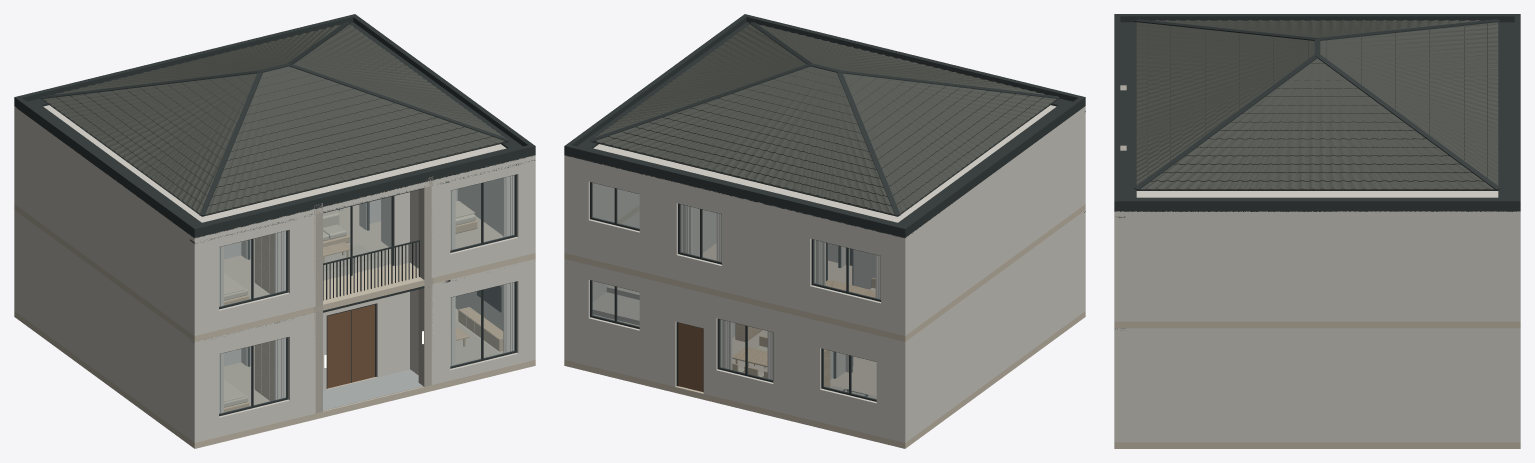
File: house-option1-tiled.glb
The picture shows the model from 3 angles, left to right: view 1: azimuth 30°, elevation 25°; view 2: azimuth 150°, elevation 25°; view 3: azimuth 270°, elevation 25°; orthographic projection. The views are drawn at different scales.
Visible parts, largest first — view 1: roof/mesh10/ceramic tile surface 1, floor1/0006/left exterior, floor2/0072/left exterior, roof/mesh11/ceramic tile surface 2, floor2/0001/upper slab west, roof/mesh12/ceramic tile surface 3, roof/0673/closed upper ceiling slab, floor1/0000/ground floor allowance, floor1/0060/W02 glass, roof/mesh9/ceramic tile surface 0, roof/0675/inset eave fascia, floor2/0128/D06 glass (+44 smaller); view 2: roof/mesh9/ceramic tile surface 0, floor1/0006/left exterior, floor2/0072/left exterior, roof/mesh11/ceramic tile surface 2, floor2/0077/rear exterior, roof/mesh12/ceramic tile surface 3, roof/0673/closed upper ceiling slab, floor1/0000/ground floor allowance, floor1/0011/rear exterior, roof/mesh10/ceramic tile surface 1, roof/0674/inset eave fascia, floor1/0016/rear exterior (+44 smaller); view 3: floor1/0007/right exterior, floor2/0073/right exterior, roof/mesh12/ceramic tile surface 3, roof/mesh9/ceramic tile surface 0, roof/mesh10/ceramic tile surface 1, roof/0677/inset eave fascia, roof/0673/closed upper ceiling slab, roof/mesh11/ceramic tile surface 2, roof/0678/perimeter gutter graphic allowance, roof/0679/perimeter gutter graphic allowance, floor1/0000/ground floor allowance, roof/0676/inset eave fascia (+10 smaller).
Part boxes in pixels (box(x1,y1,x2,y2)): roof/mesh10/ceramic tile surface 1: box(205, 66, 506, 215); floor1/0006/left exterior: box(14, 210, 201, 442); floor2/0072/left exterior: box(14, 112, 201, 335); roof/mesh11/ceramic tile surface 2: box(41, 73, 256, 213); floor2/0001/upper slab west: box(14, 204, 424, 341); roof/mesh12/ceramic tile surface 3: box(293, 22, 504, 137); roof/0673/closed upper ceiling slab: box(14, 105, 535, 243); floor1/0000/ground floor allowance: box(14, 308, 535, 448); floor1/0060/W02 glass: box(450, 282, 514, 366); roof/mesh9/ceramic tile surface 0: box(50, 24, 342, 95); roof/0675/inset eave fascia: box(192, 144, 535, 238); floor2/0128/D06 glass: box(323, 196, 391, 280); roof/mesh9/ceramic tile surface 0: box(593, 66, 894, 215); floor1/0006/left exterior: box(898, 210, 1085, 442); floor2/0072/left exterior: box(898, 112, 1085, 335); roof/mesh11/ceramic tile surface 2: box(843, 73, 1058, 213); floor2/0077/rear exterior: box(722, 199, 811, 312); roof/mesh12/ceramic tile surface 3: box(595, 22, 806, 137); roof/0673/closed upper ceiling slab: box(564, 105, 1085, 243); floor1/0000/ground floor allowance: box(564, 311, 1085, 448); floor1/0011/rear exterior: box(773, 310, 821, 421); roof/mesh10/ceramic tile surface 1: box(757, 24, 1049, 95); roof/0674/inset eave fascia: box(564, 144, 907, 238); floor1/0016/rear exterior: box(639, 277, 676, 386); floor1/0007/right exterior: box(1114, 328, 1520, 442); floor2/0073/right exterior: box(1114, 218, 1520, 321); roof/mesh12/ceramic tile surface 3: box(1140, 58, 1494, 189); roof/mesh9/ceramic tile surface 0: box(1320, 20, 1498, 185); roof/mesh10/ceramic tile surface 1: box(1136, 20, 1314, 185); roof/0677/inset eave fascia: box(1120, 198, 1514, 211); roof/0673/closed upper ceiling slab: box(1114, 191, 1520, 217); roof/mesh11/ceramic tile surface 2: box(1147, 20, 1487, 37); roof/0678/perimeter gutter graphic allowance: box(1498, 22, 1514, 198); roof/0679/perimeter gutter graphic allowance: box(1120, 22, 1136, 198); floor1/0000/ground floor allowance: box(1114, 442, 1520, 448); roof/0676/inset eave fascia: box(1120, 14, 1514, 22).
Size of the model in its own units: 12 by 9.21 by 11.
Materials: 17 (1 with a texture image).
